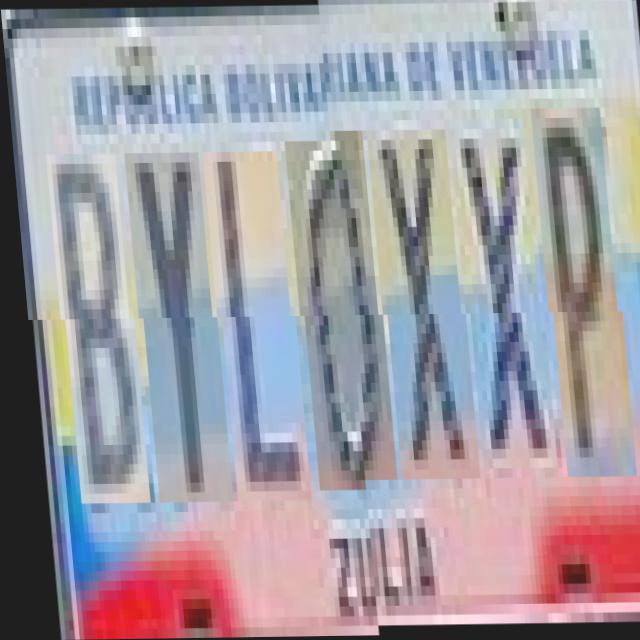B: (48, 154, 141, 504)
L: (204, 152, 302, 502)
O: (286, 142, 389, 492)
P: (534, 120, 628, 488)
X: (370, 140, 472, 490), (452, 130, 550, 480)
Y: (126, 152, 224, 502)
